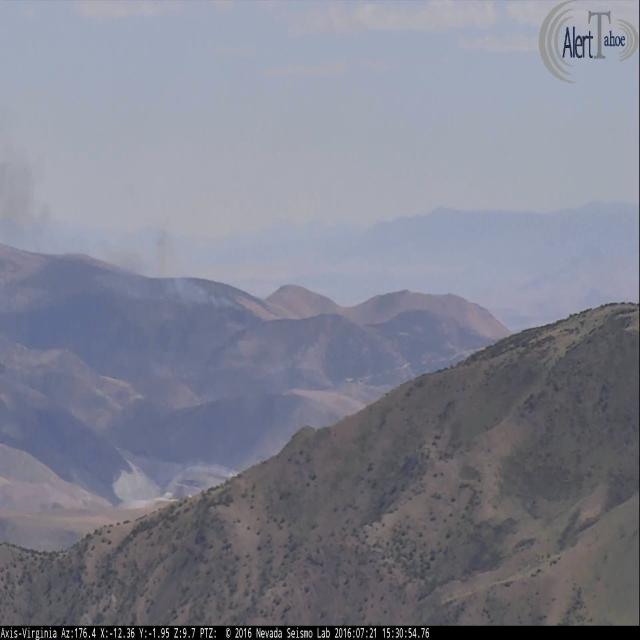smoke: (158, 226, 237, 316)
